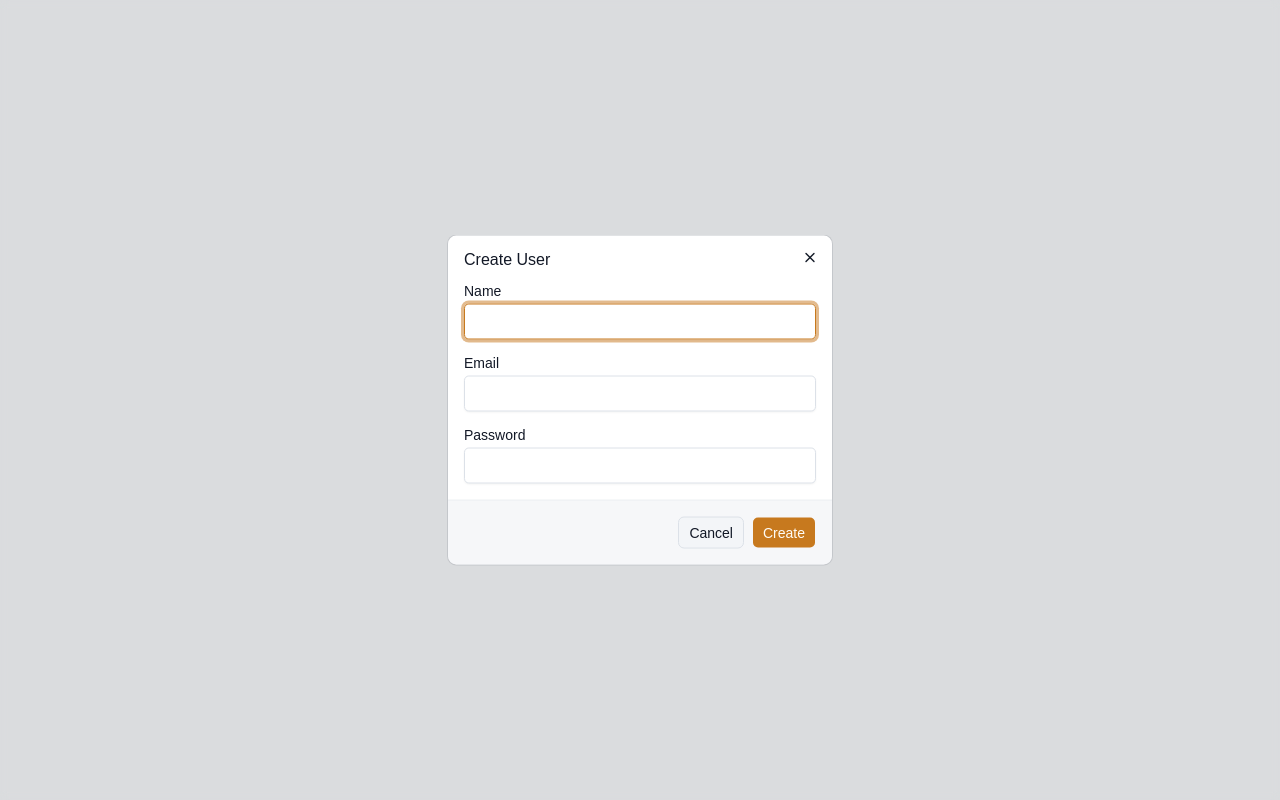
Test: UserFormDialog — Create mode › Validation › shows an error for an invalid email
Type "not-an-email" into the field labelled "Email".
click(640, 394); type("not-an-email")  # box [464,376,816,412]
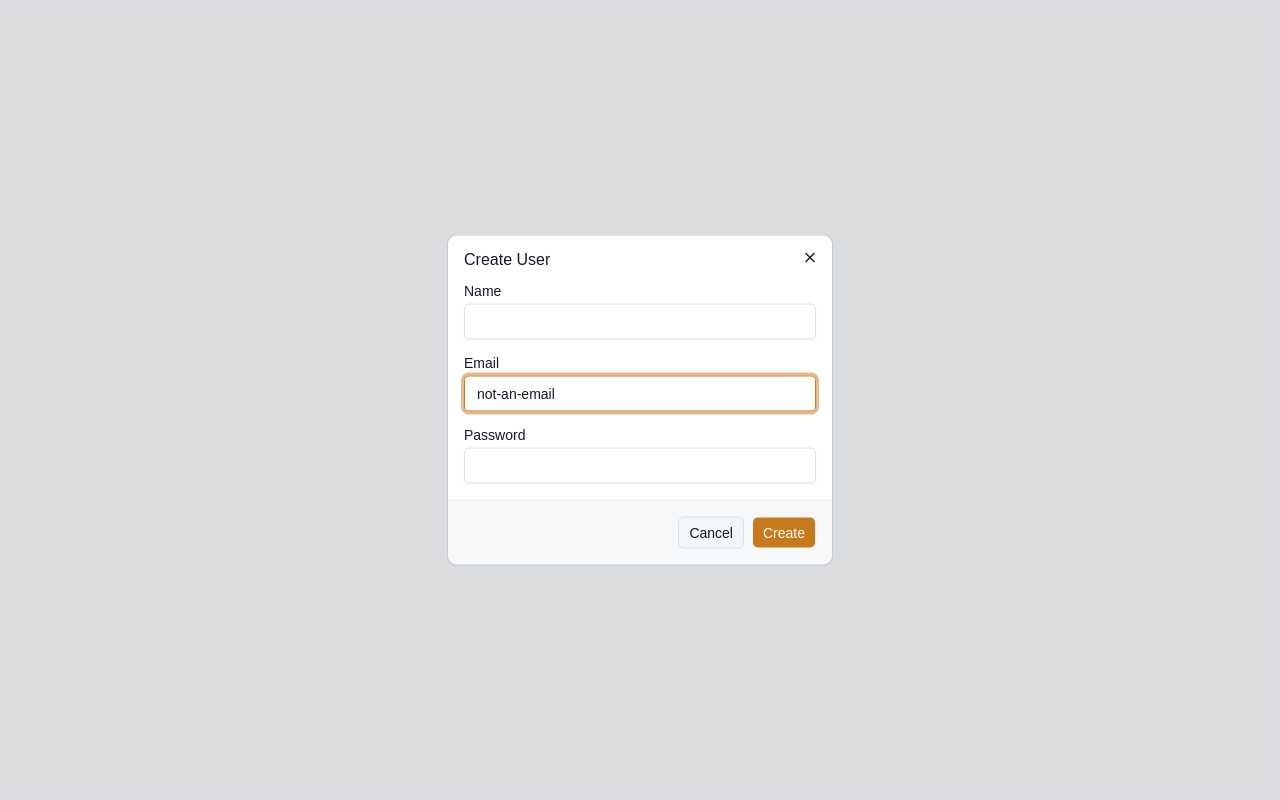
Click the button "Create".
click(784, 532)  # box [752,516,816,548]
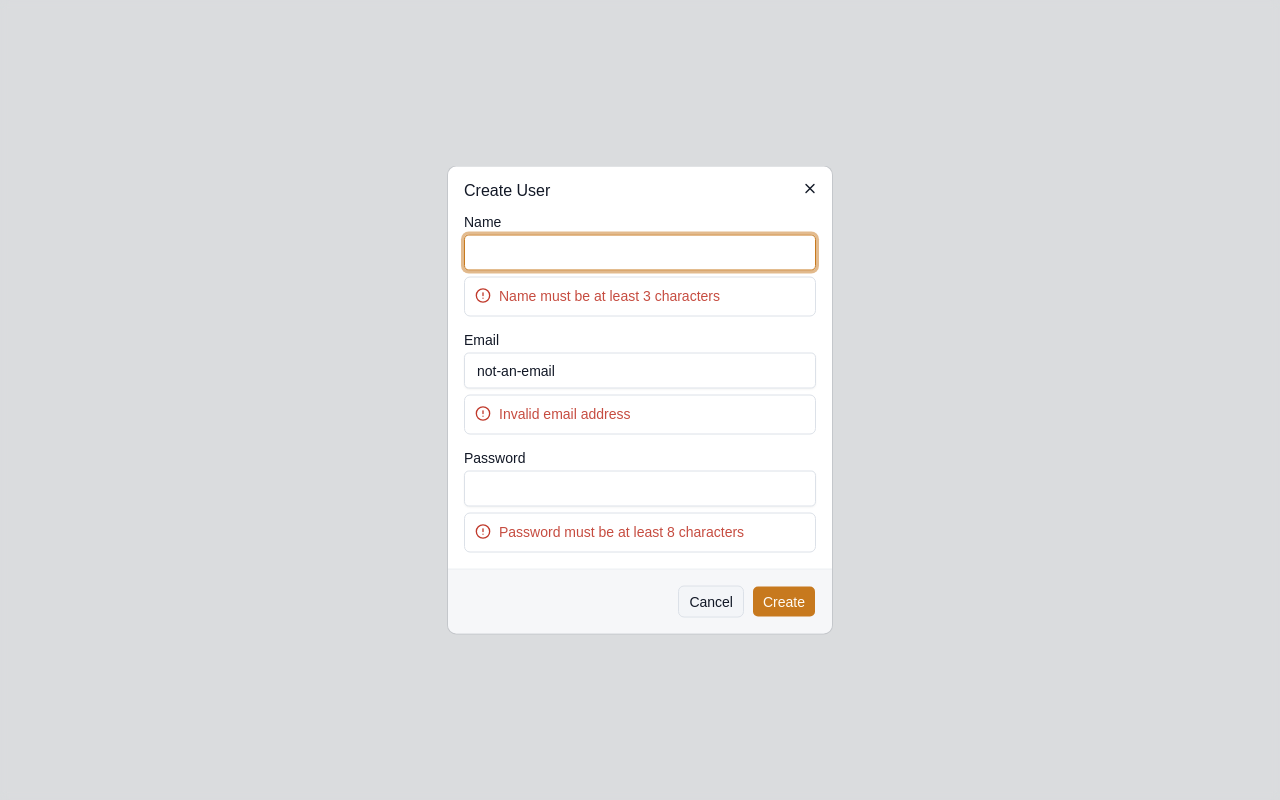
Check: the text "Invalid email address" is shown, box [499,406,630,422]
